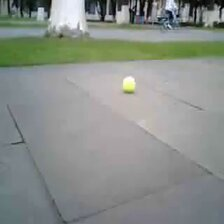tennis: (121, 75, 136, 92)
